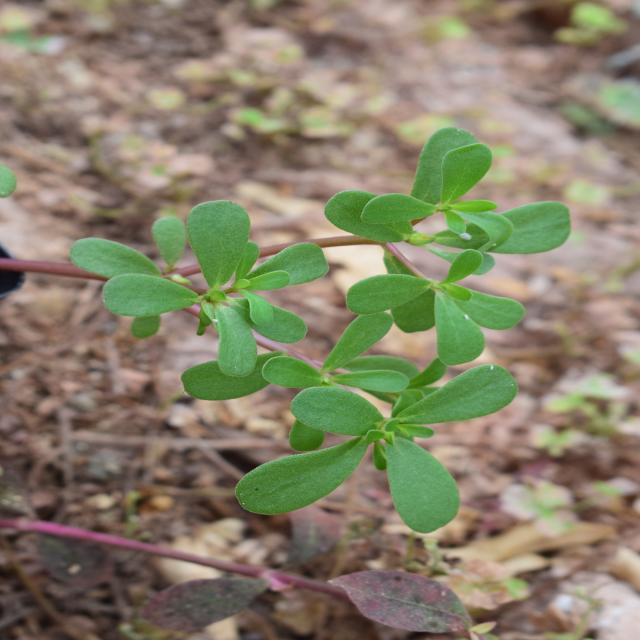purslane: (102, 42, 542, 602)
